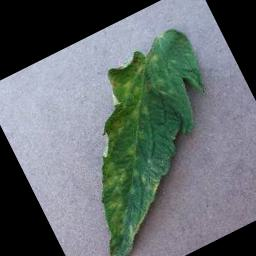Leaf_Mold: (30, 43, 237, 256)
